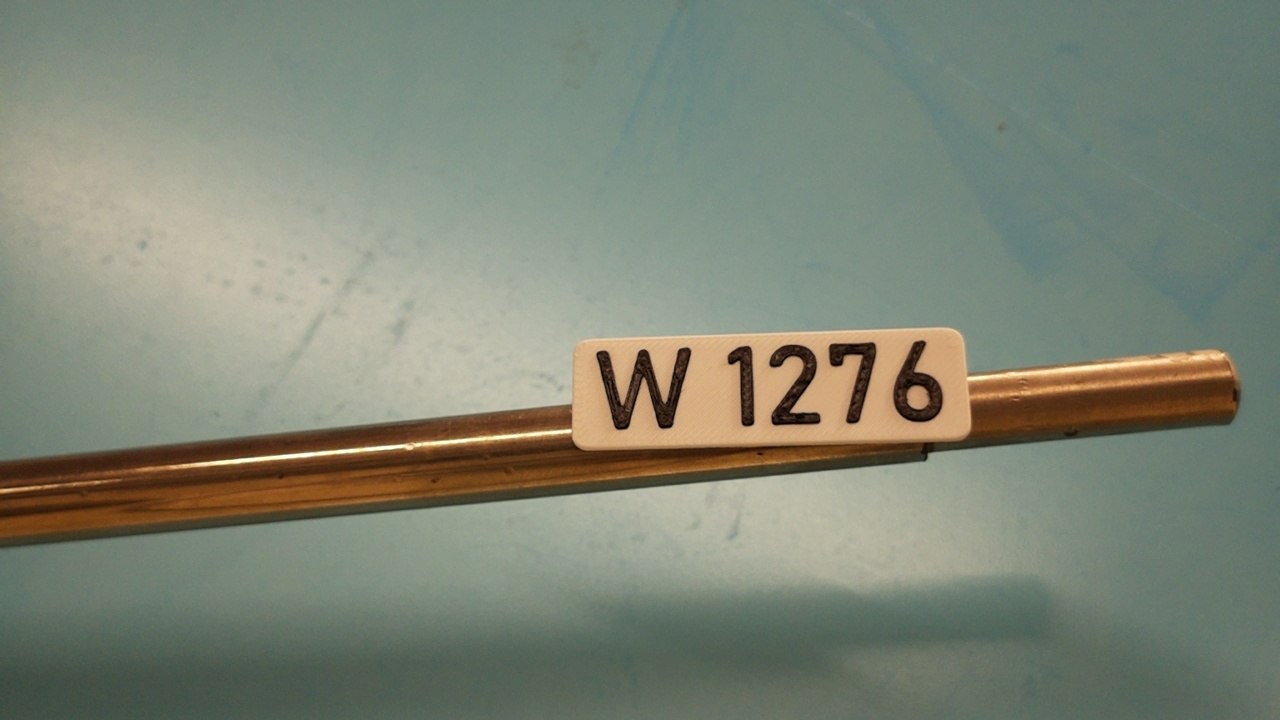license_plate: (570, 324, 974, 452)
